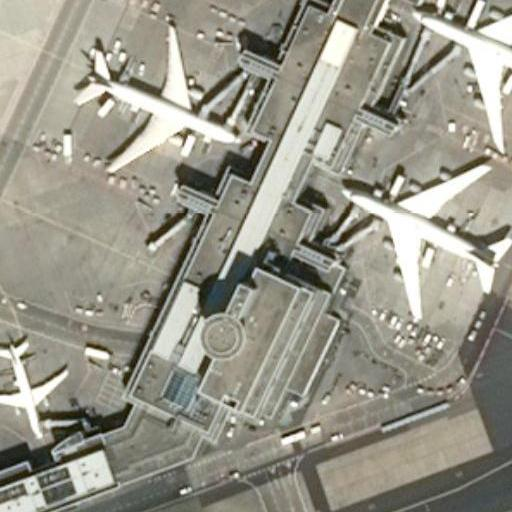Aircraft: (337, 148, 510, 318), (336, 154, 509, 323), (68, 21, 249, 177), (71, 18, 238, 175), (406, 0, 512, 150), (405, 0, 511, 149), (0, 334, 75, 441), (0, 332, 69, 441)
